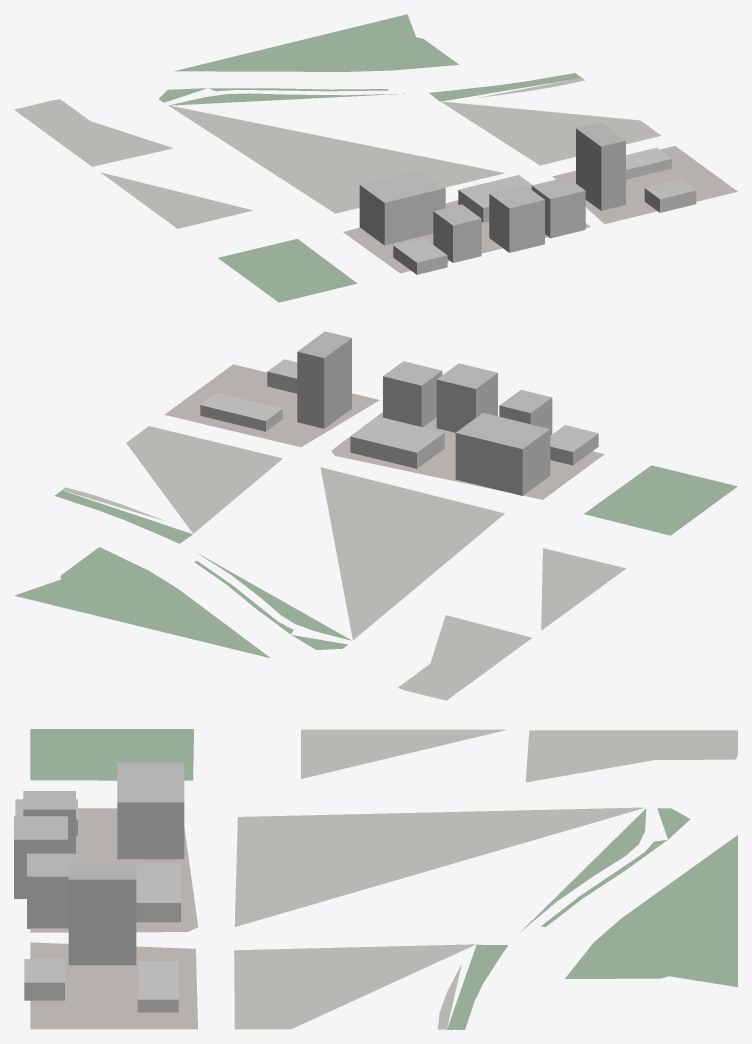
The model's file is 98_102_mid.glb.
3 renders of one model, top to bottom at view 1: azimuth 30°, elevation 25°; view 2: azimuth 150°, elevation 25°; view 3: azimuth 270°, elevation 25°, orthographic. The views are drawn at different scales.
Size of the model in its own units: 500 by 67.48 by 512.
